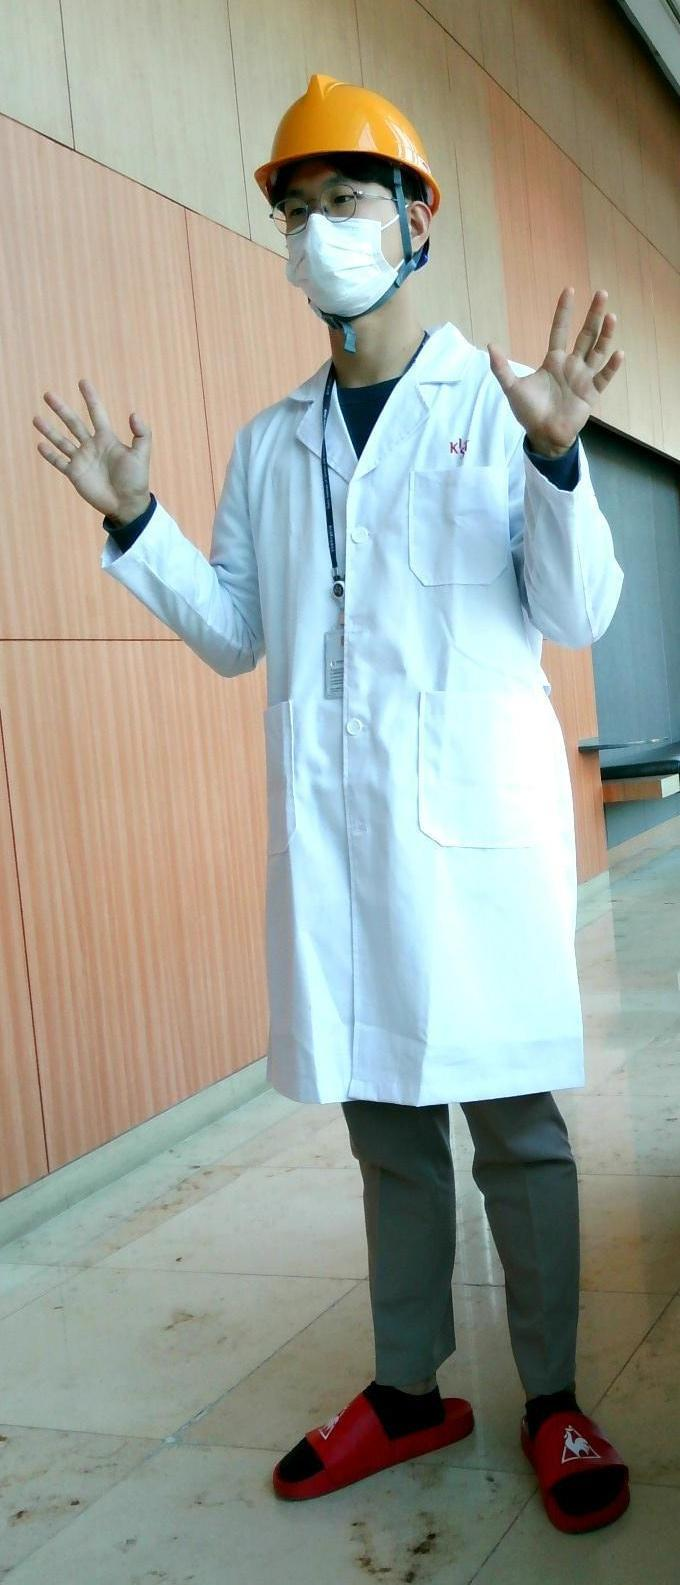lab_coat: (237, 348, 537, 1095)
